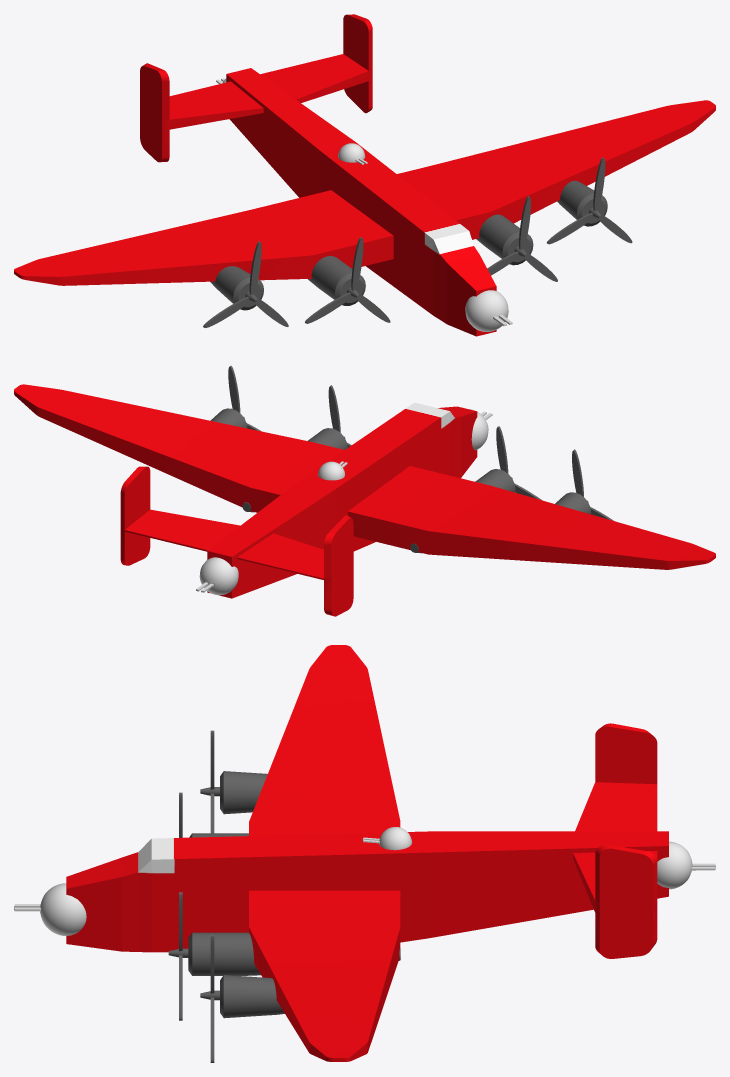
File: Handley Page Halifax.fbx
The picture shows the model from 3 angles, top to bottom: view 1: azimuth 30°, elevation 25°; view 2: azimuth 150°, elevation 25°; view 3: azimuth 270°, elevation 25°; orthographic projection. The views are drawn at different scales.
Parts seen in each view (by area): view 1: Body, Right_Wing, Left_Wing, Right_Back_Wing, Left_Back_Wing, Engine2, Engine1, Gun_Front, Engine3, Engine4; view 2: Right_Wing, Left_Wing, Body, Right_Back_Wing, Left_Back_Wing, Gun_Back, Engine1, Engine2, Gun_Front, Engine3, Gun_Top, Engine4; view 3: Body, Left_Wing, Right_Wing, Left_Back_Wing, Right_Back_Wing, Engine2, Engine4, Gun_Front, Engine3, Gun_Back, Gun_Top.
Part boxes in pixels (bbox=[...]): Body: bbox=[226, 68, 496, 336]; Right_Wing: bbox=[14, 190, 393, 285]; Left_Wing: bbox=[397, 100, 715, 239]; Right_Back_Wing: bbox=[140, 63, 263, 162]; Left_Back_Wing: bbox=[260, 14, 372, 113]; Engine2: bbox=[476, 214, 533, 265]; Engine1: bbox=[308, 256, 365, 305]; Gun_Front: bbox=[465, 290, 512, 331]; Engine3: bbox=[210, 266, 263, 310]; Engine4: bbox=[557, 180, 607, 226]; Right_Wing: bbox=[348, 466, 715, 569]; Left_Wing: bbox=[14, 384, 344, 512]; Body: bbox=[207, 402, 477, 598]; Right_Back_Wing: bbox=[237, 515, 353, 616]; Left_Back_Wing: bbox=[120, 466, 239, 565]; Gun_Back: bbox=[196, 557, 238, 595]; Engine1: bbox=[410, 469, 515, 553]; Engine2: bbox=[242, 428, 347, 512]; Gun_Front: bbox=[468, 409, 492, 450]; Engine3: bbox=[555, 492, 591, 514]; Gun_Top: bbox=[318, 461, 347, 480]; Engine4: bbox=[210, 408, 247, 428]; Body: bbox=[66, 831, 668, 952]; Left_Wing: bbox=[249, 890, 400, 1061]; Right_Wing: bbox=[249, 645, 400, 835]; Left_Back_Wing: bbox=[573, 845, 657, 958]; Right_Back_Wing: bbox=[575, 723, 657, 831]; Engine2: bbox=[188, 932, 400, 975]; Engine4: bbox=[220, 975, 284, 1018]; Gun_Front: bbox=[14, 883, 86, 935]; Engine3: bbox=[220, 771, 267, 814]; Gun_Back: bbox=[657, 841, 715, 889]; Gun_Top: bbox=[363, 827, 412, 850].
Bounding box in the file's own units: 3107 × 579 × 2232.
3 materials, 1 textured.
